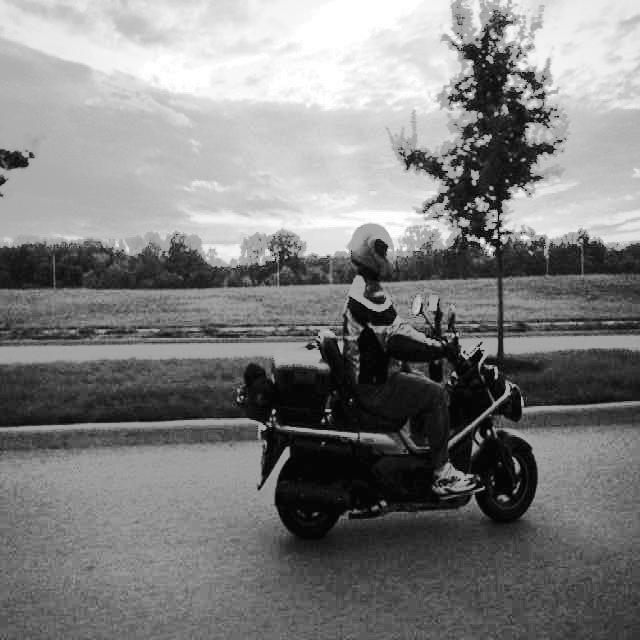Motorcycle: (257, 273, 543, 538)
Tree: (417, 0, 557, 372)
